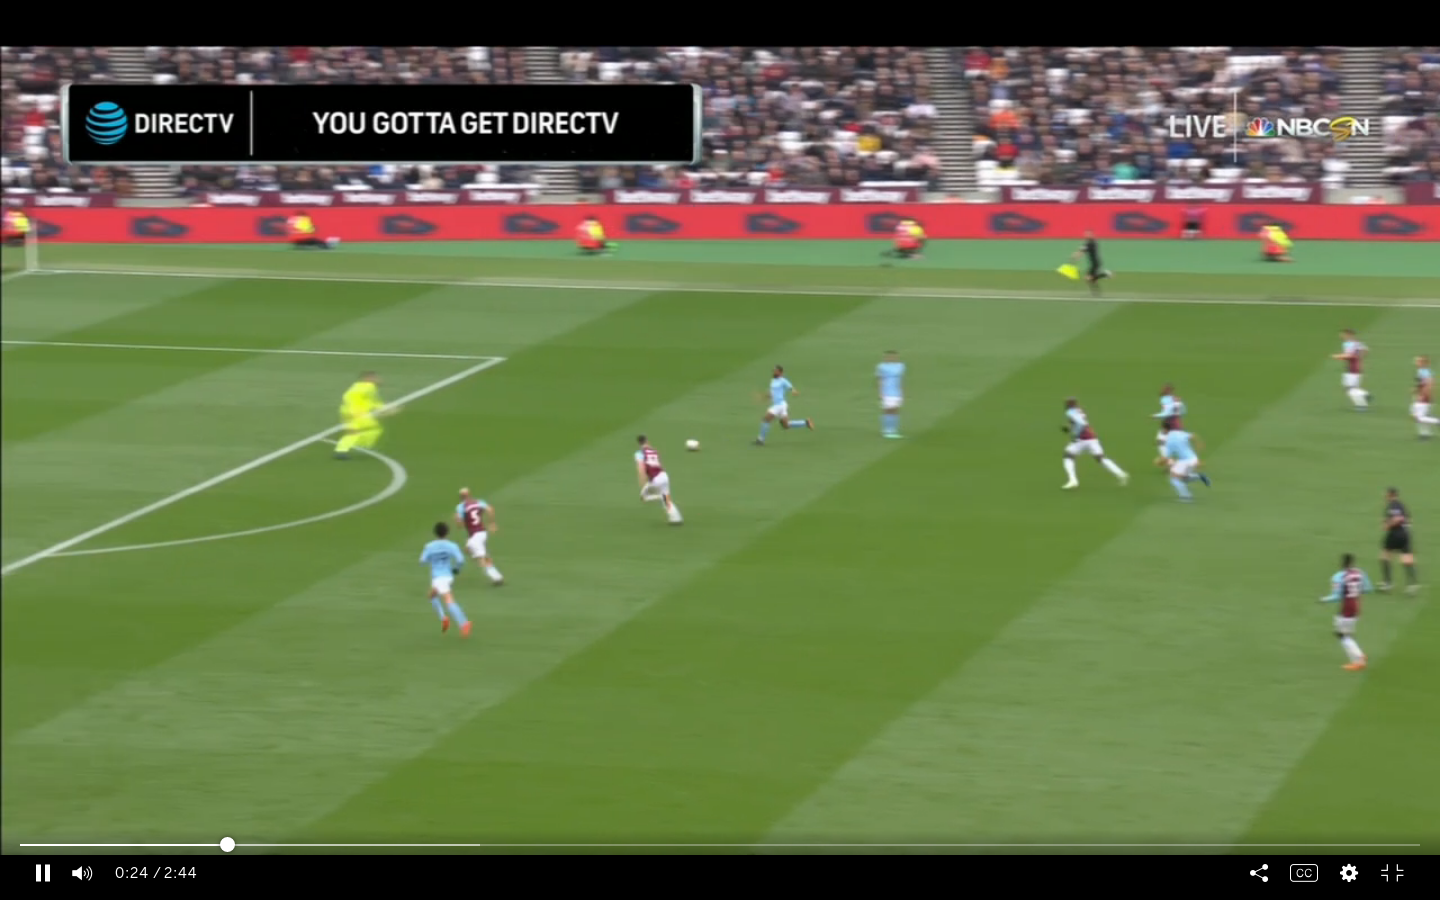referee: (1373, 479, 1427, 602)
soccer player: (1053, 396, 1133, 497), (1321, 548, 1375, 677), (332, 362, 395, 463), (455, 480, 513, 589), (416, 520, 467, 640), (748, 362, 816, 451), (625, 432, 685, 531), (870, 345, 915, 449), (1158, 422, 1207, 499), (1333, 320, 1368, 409), (1147, 383, 1193, 446), (1405, 351, 1440, 427)
soccerball: (678, 431, 704, 459)
